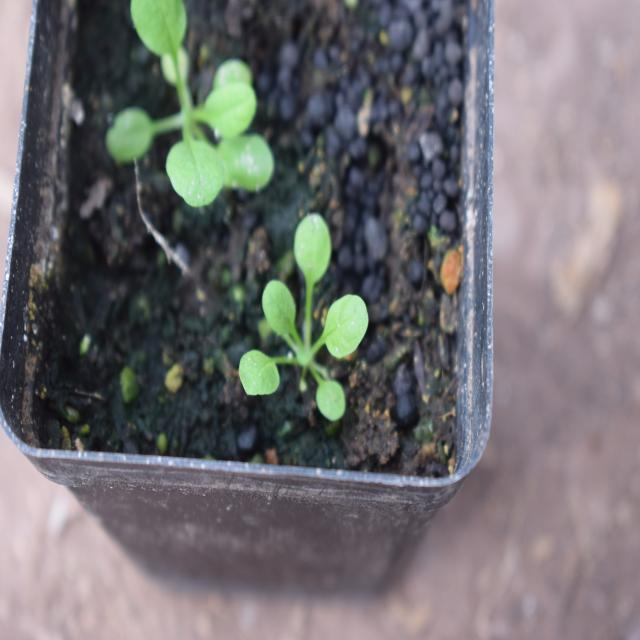Shepherd_Purse: (106, 14, 292, 207), (245, 240, 388, 414)
